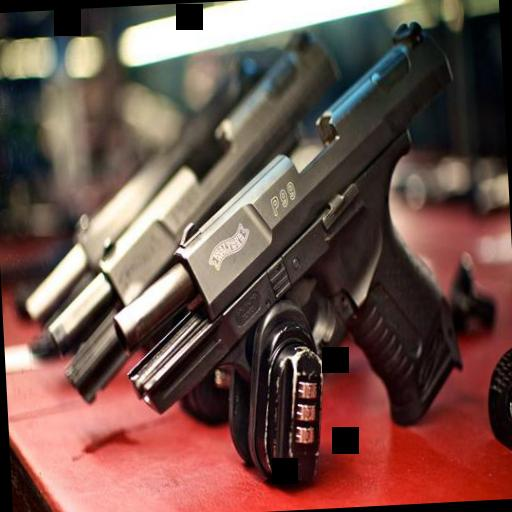Handgun: (44, 12, 481, 464)
